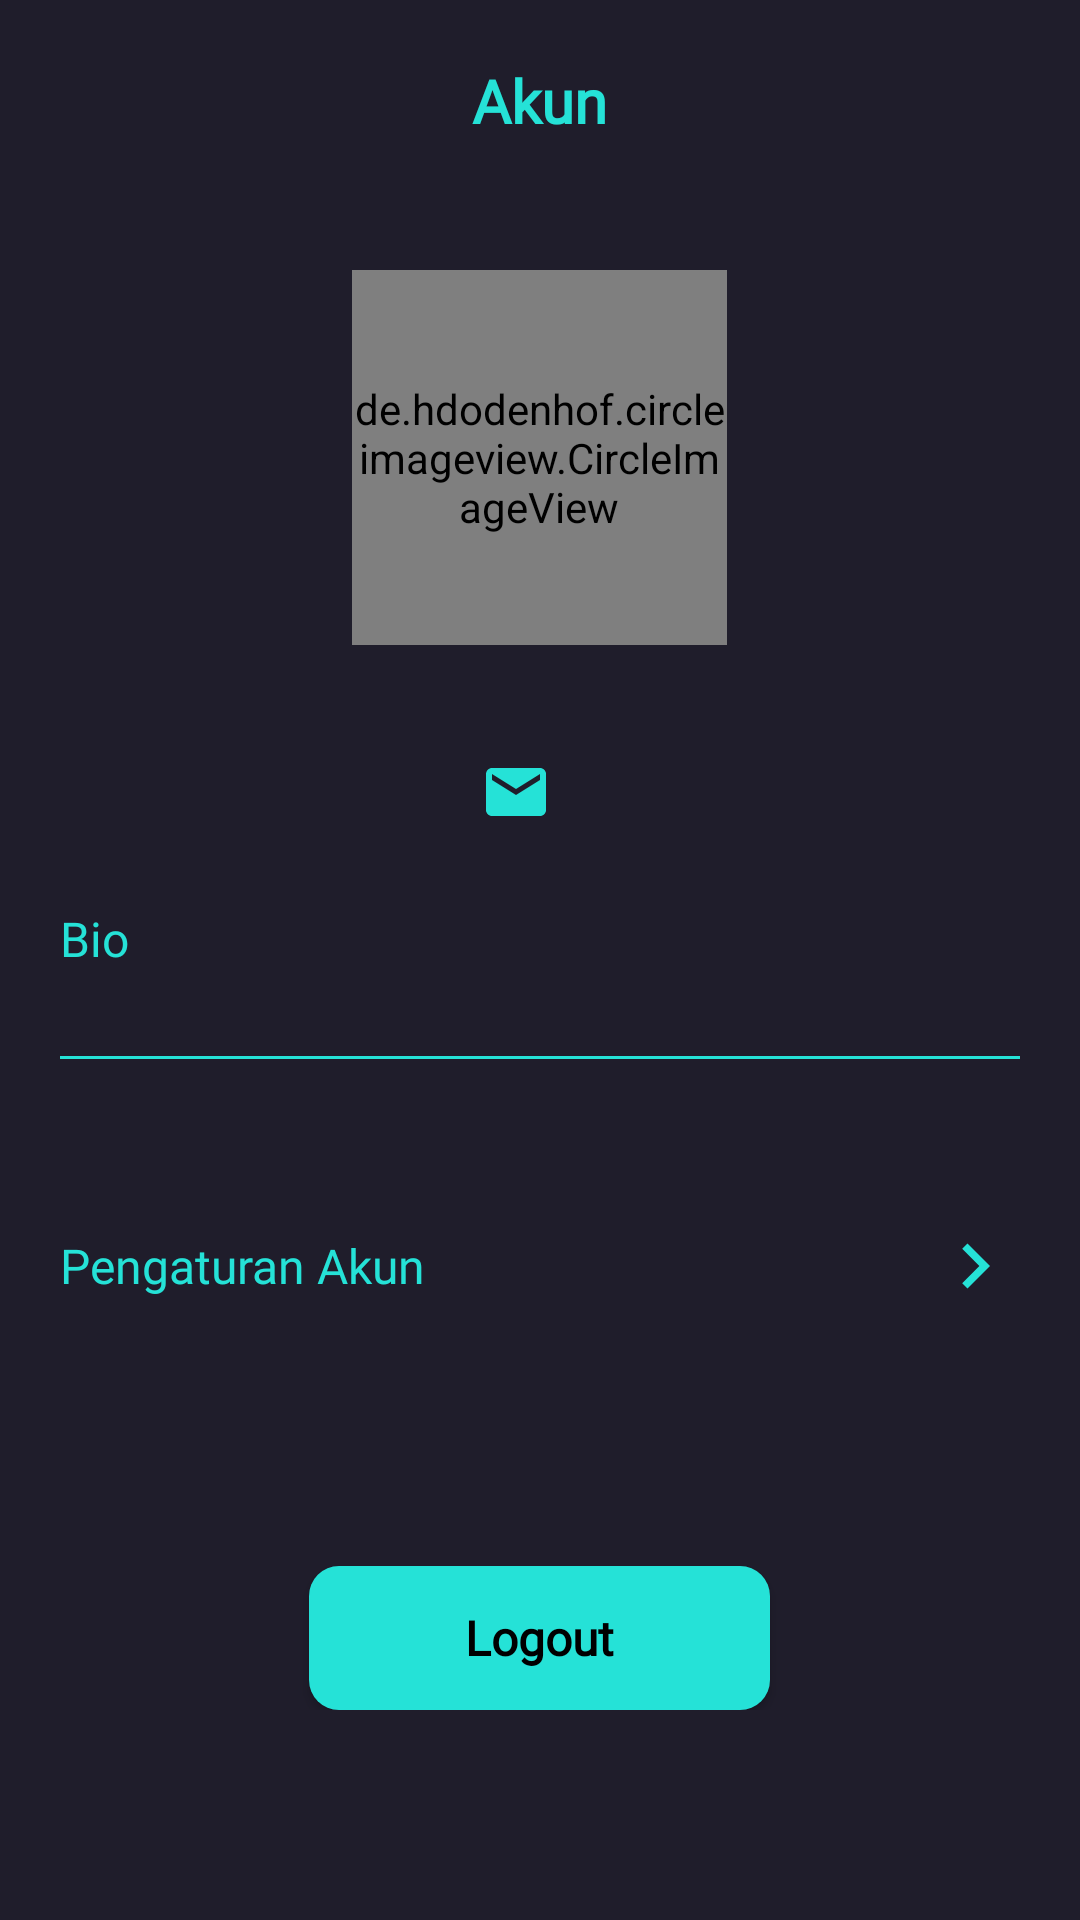

Where icons sit on this 1080px x 1920px app screen, as Rect(x1, y1, x2, y2):
email: Rect(486, 768, 546, 816)
navigate next: Rect(962, 1243, 990, 1289)
